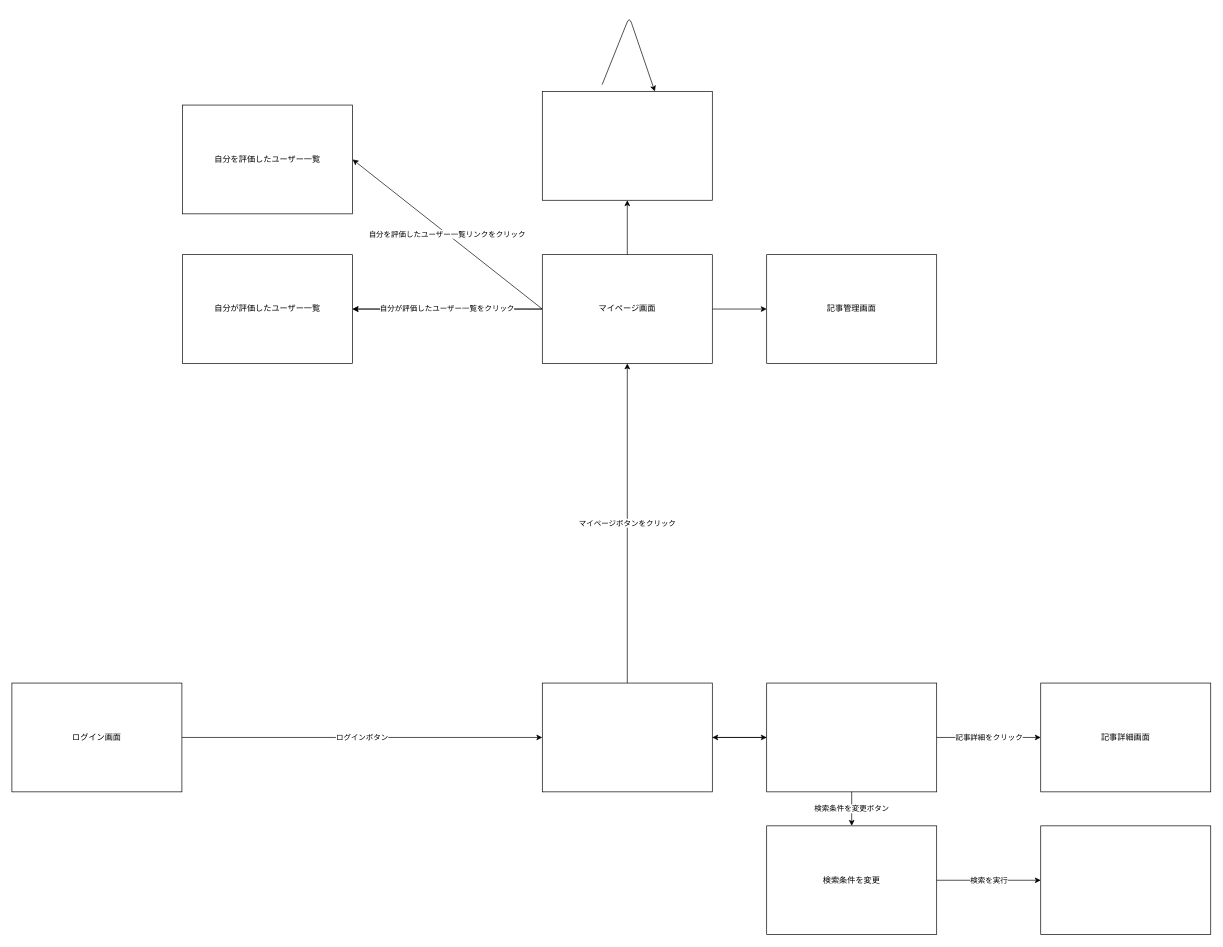
Image size: 1223x947. Some labels were removed from this diagram. Here are the shapes that lost their labels. From the top down, the centre of each, then its label:
At (627,145): "登録情報設定画面".
At (627,737): "ホーム画面".
At (851,737): "記事検索結果画面".
At (1125,880): "新たな検索結果".
